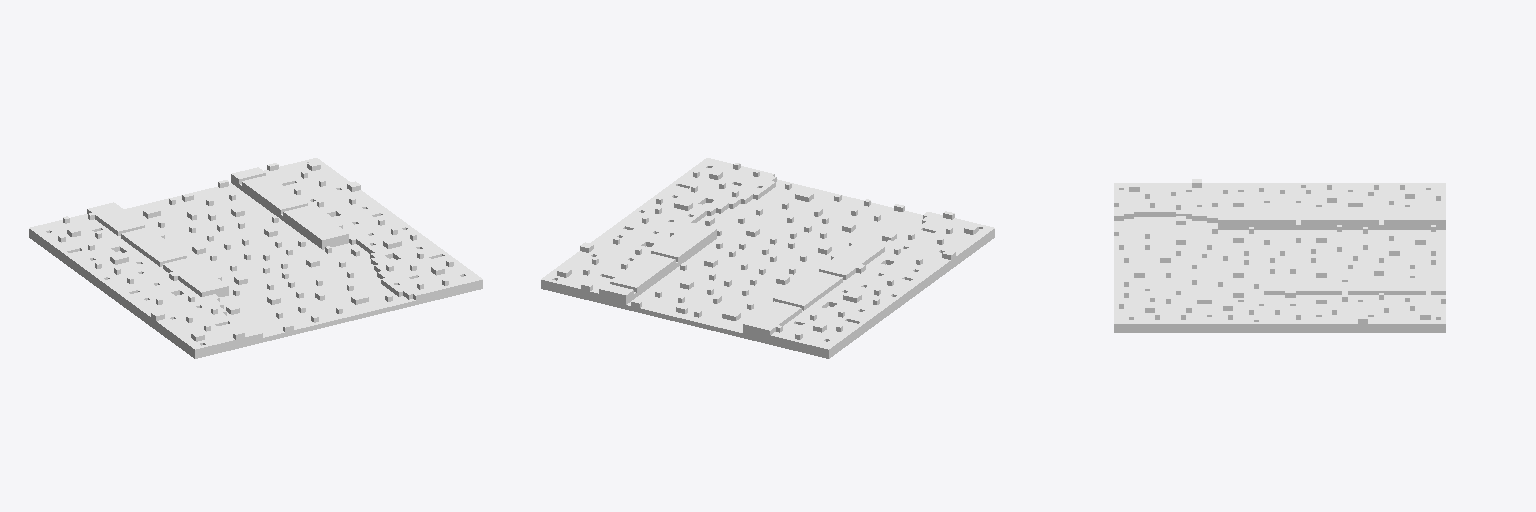
Rendered from Transition_1.obj.
The picture shows the model from 3 angles: view 1: azimuth 30°, elevation 25°; view 2: azimuth 150°, elevation 25°; view 3: azimuth 270°, elevation 25°; orthographic projection.
Parts seen in each view (by area): view 1: Transition_1; view 2: Transition_1; view 3: Transition_1.
Boxes of the visible parts, box(x1,y1,x2,y2) form: Transition_1: box(29, 158, 482, 358); Transition_1: box(541, 158, 994, 358); Transition_1: box(1114, 179, 1445, 332).
Size of the model in its own units: 1 by 0.0469 by 1.